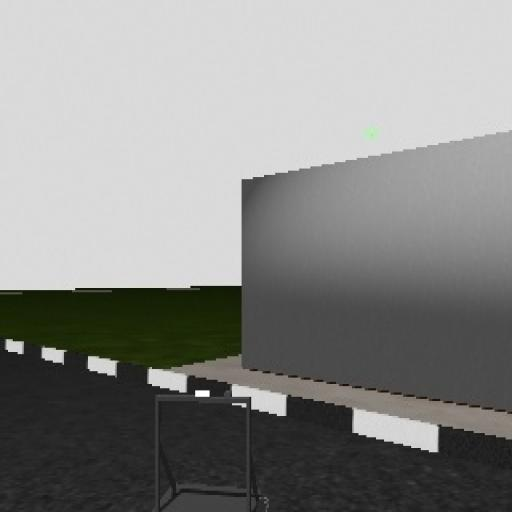huskya200: (125, 381, 273, 512)
